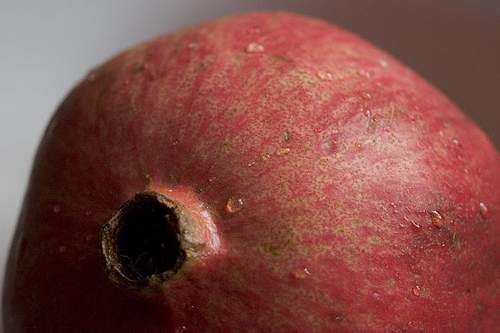pomogranate: (0, 12, 499, 332)
